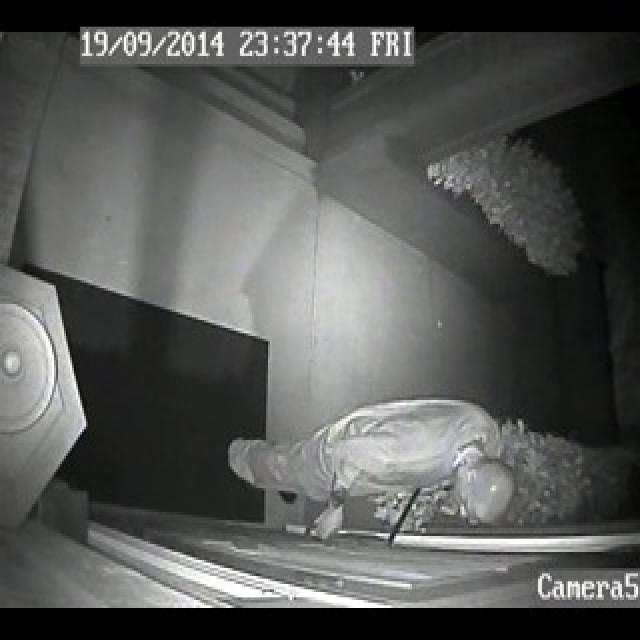thief: (226, 394, 520, 534)
